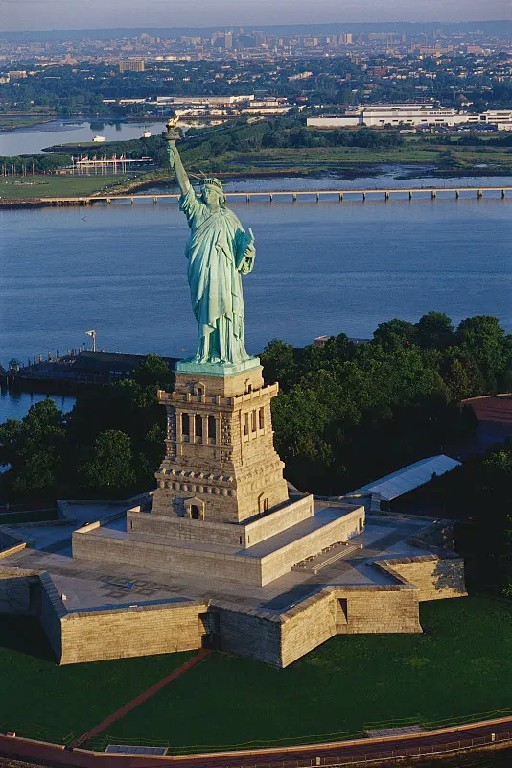SL: (151, 116, 290, 524)
